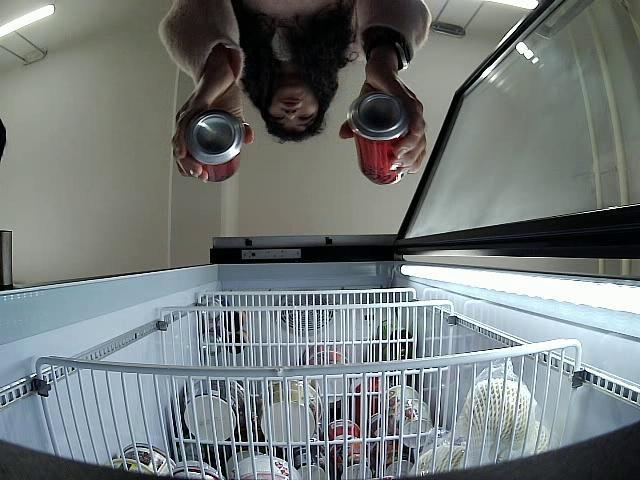11_cocaColaZero: (348, 89, 409, 186), (184, 108, 242, 182)
